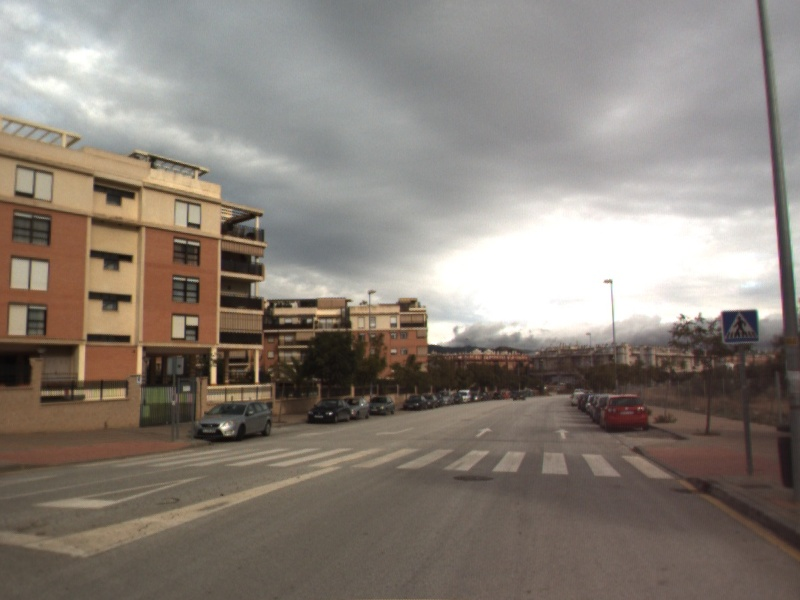STRAIGHT: (474, 425, 495, 439), (553, 426, 572, 441)
